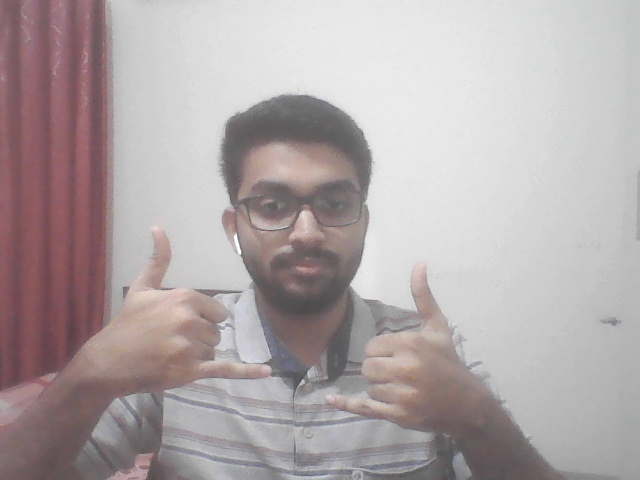play: (72, 219, 503, 437)
